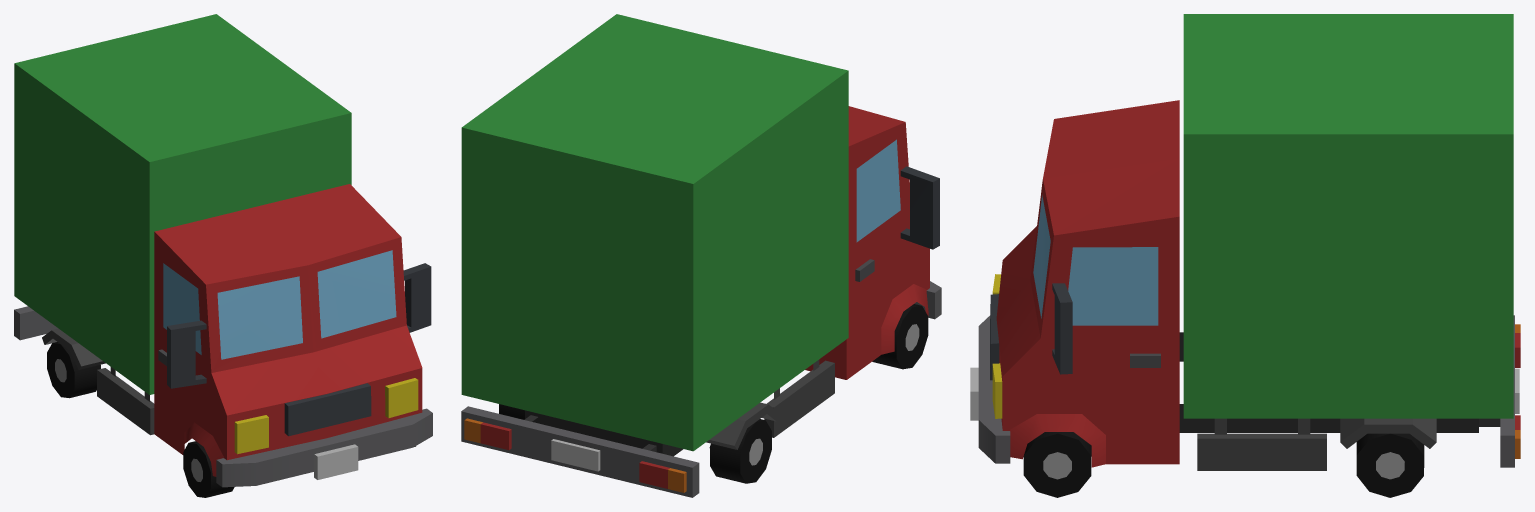
File: Car_08_red.fbx
3 renders of one model, left to right at view 1: azimuth 30°, elevation 25°; view 2: azimuth 150°, elevation 25°; view 3: azimuth 270°, elevation 25°, orthographic. The views are drawn at different scales.
Parts seen in each view (by area): view 1: Car_08_red; view 2: Car_08_red; view 3: Car_08_red.
Part boxes in pixels (left/top/right/bottom): Car_08_red: left=14, top=14, right=432, bottom=497; Car_08_red: left=461, top=14, right=941, bottom=497; Car_08_red: left=970, top=14, right=1520, bottom=497.
Size of the model in its own units: 65.03 by 70.59 by 97.45.
